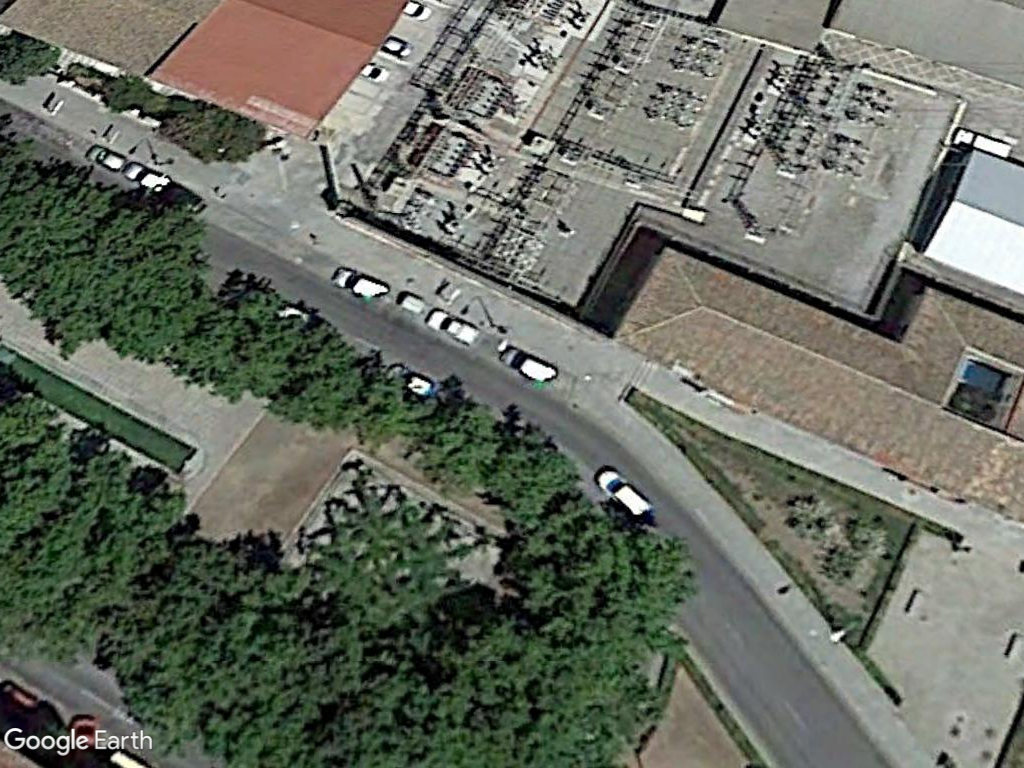car: (591, 462, 656, 524), (499, 342, 561, 390), (426, 302, 484, 350), (117, 156, 173, 198), (78, 140, 131, 175)
